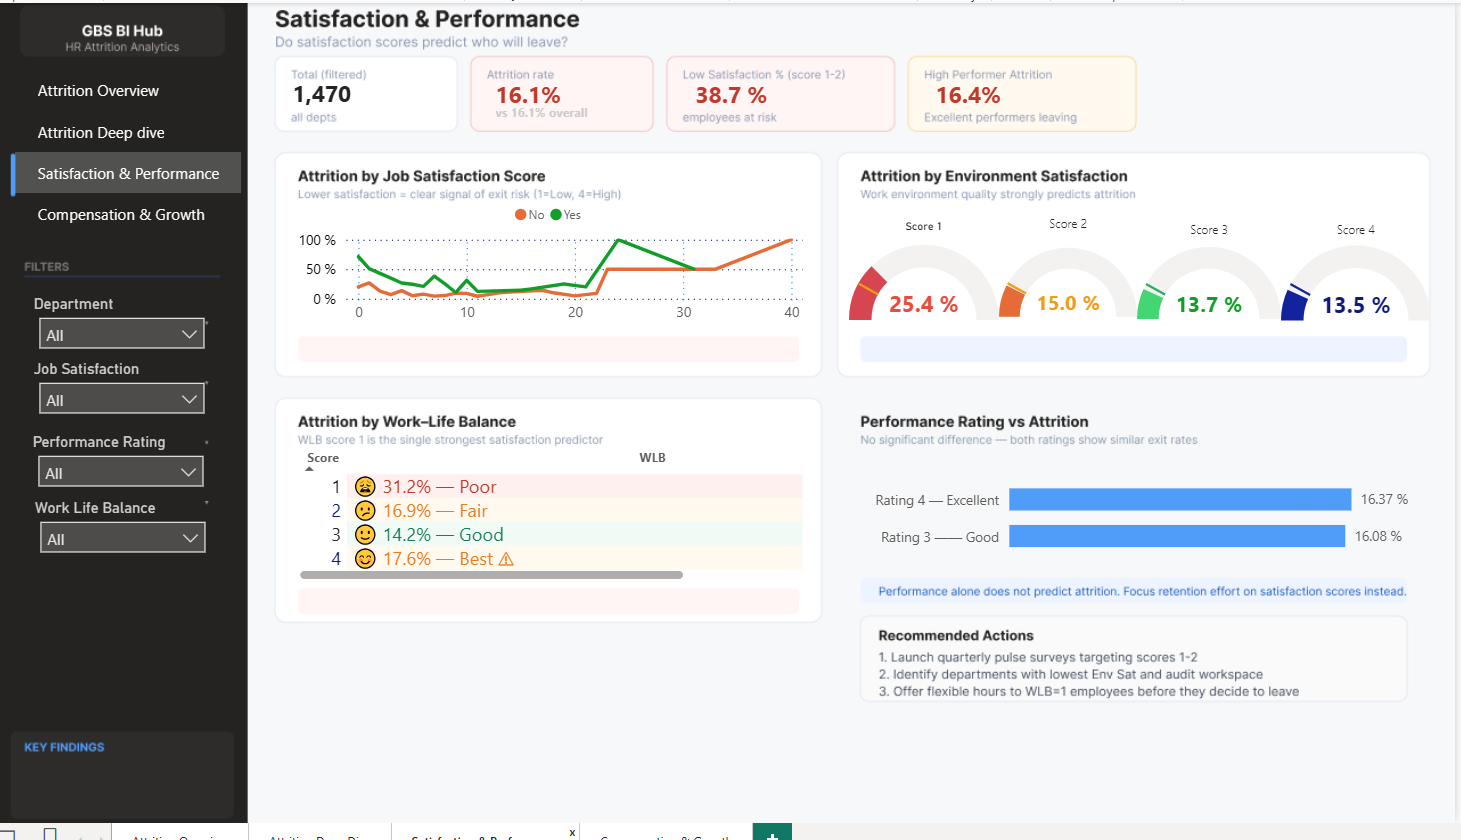

The dashboard page shown, as its layout file describes it:
{"tool":"powerbi","page":{"name":"Satisfaction & Performance","canvas":[1280,720],"ordinal":2},"visuals":[{"type":"actionButton","box":[15.4,57.6,197.6,37],"z":0},{"type":"actionButton","box":[15.4,94.7,197.6,36],"z":1000},{"type":"actionButton","box":[15.4,130.7,198.6,36],"z":2000},{"type":"actionButton","box":[15.4,166.7,198.6,36],"z":3000},{"type":"slicer","title":"Department","fields":{"Values":["Dim_Employee.Department"]},"box":[27.3,256.4,164.5,49.1],"z":4000},{"type":"slicer","title":"Job Satisfaction","fields":{"Values":["Fact_Attrition.JobSatisfaction"]},"box":[27.3,313.6,164.5,49.1],"z":5000},{"type":"slicer","title":"Performance Rating","fields":{"Values":["Fact_Attrition.PerformanceRating"]},"box":[26.8,377.6,164.6,48.4],"z":6000},{"type":"slicer","title":"Work Life Balance","fields":{"Values":["Fact_Attrition.WorkLifeBalance"]},"box":[27.8,435.2,164.6,48.4],"z":7000},{"type":"cardVisual","fields":{"Data":["Attrition Overview.Total Employees"]},"box":[241.5,45.7,163.3,63.2],"z":8000},{"type":"cardVisual","fields":{"Data":["Attrition Overview.VS Overall Label"]},"box":[419.8,63.8,228.4,61.7],"z":9000},{"type":"cardVisual","fields":{"Data":["Attrition Overview.Attrition Rate %"]},"box":[419.3,46.8,168.1,62.1],"z":10000},{"type":"cardVisual","fields":{"Data":["Attrition Overview.Low Satisfaction %"]},"box":[595.1,46.8,168.1,62.1],"z":11000},{"type":"cardVisual","fields":{"Data":["Attrition Overview.High Performer Attrition"]},"box":[806.2,46.8,168.1,62.1],"z":12000},{"type":"lineChart","fields":{"Category":["Fact_Attrition.YearsAtCompany"],"Y":["Attrition Overview.Attrition Rate"],"Series":["Fact_Attrition.OverTime"]},"box":[264.6,167.2,443.2,117.5],"z":13000},{"type":"gauge","title":"Score 1 ","fields":{"Y":["Attrition Overview.Attrition Rate EnvSat 1"],"TargetValue":["Attrition Overview.Attrition Rate"]},"box":[748,190.4,131.7,90.5],"z":14000},{"type":"gauge","title":"Score 2","fields":{"TargetValue":["Attrition Overview.Attrition Rate"],"Y":["Attrition Overview.Attrition Rate EnvSat 2"]},"box":[879.7,185.2,121.4,99.8],"z":15000},{"type":"gauge","title":"Score 3","fields":{"Y":["Attrition Overview.Attrition Rate EnvSat 3"],"TargetValue":["Attrition Overview.Attrition Rate"]},"box":[1001.2,190.4,126.6,90.5],"z":16000},{"type":"gauge","title":"Score 4","fields":{"Y":["Attrition Overview.Attrition Rate EnvSat 4"],"TargetValue":["Attrition Overview.Attrition Rate"]},"box":[1127.7,190.4,131.7,90.5],"z":17000},{"type":"tableEx","fields":{"Values":["Fact_Attrition.WorkLifeBalance","Attrition Overview.WLB Emoji"]},"box":[264.4,391,443.5,116.3],"z":18000},{"type":"barChart","fields":{"Y":["Attrition Overview.Attrition Rate"],"Category":["Fact_Attrition.Performance Rate Nmae"]},"box":[756.5,390.7,489.1,116.5],"z":19000}]}

Visuals, with their boxes on the page's 1280x720 design canvas (x1, y1, x2, y2). These are canvas units, not pixel positions in the 1461x840 screenshot, which may show the page scaled, cropped or inside an application window:
actionButton: pyautogui.locateOnScreen(15, 58, 213, 95)
actionButton: pyautogui.locateOnScreen(15, 95, 213, 131)
actionButton: pyautogui.locateOnScreen(15, 131, 214, 167)
actionButton: pyautogui.locateOnScreen(15, 167, 214, 203)
"Department" slicer: pyautogui.locateOnScreen(27, 256, 192, 306)
"Job Satisfaction" slicer: pyautogui.locateOnScreen(27, 314, 192, 363)
"Performance Rating" slicer: pyautogui.locateOnScreen(27, 378, 191, 426)
"Work Life Balance" slicer: pyautogui.locateOnScreen(28, 435, 192, 484)
cardVisual - Attrition Overview.Total Employees: pyautogui.locateOnScreen(242, 46, 405, 109)
cardVisual - Attrition Overview.VS Overall Label: pyautogui.locateOnScreen(420, 64, 648, 126)
cardVisual - Attrition Overview.Attrition Rate %: pyautogui.locateOnScreen(419, 47, 587, 109)
cardVisual - Attrition Overview.Low Satisfaction %: pyautogui.locateOnScreen(595, 47, 763, 109)
cardVisual - Attrition Overview.High Performer Attrition: pyautogui.locateOnScreen(806, 47, 974, 109)
lineChart - Fact_Attrition.YearsAtCompany x Attrition Overview.Attrition Rate: pyautogui.locateOnScreen(265, 167, 708, 285)
"Score 1 " gauge: pyautogui.locateOnScreen(748, 190, 880, 281)
"Score 2" gauge: pyautogui.locateOnScreen(880, 185, 1001, 285)
"Score 3" gauge: pyautogui.locateOnScreen(1001, 190, 1128, 281)
"Score 4" gauge: pyautogui.locateOnScreen(1128, 190, 1259, 281)
tableEx - Fact_Attrition.WorkLifeBalance x Attrition Overview.WLB Emoji: pyautogui.locateOnScreen(264, 391, 708, 507)
barChart - Attrition Overview.Attrition Rate x Fact_Attrition.Performance Rate Nmae: pyautogui.locateOnScreen(756, 391, 1246, 507)
